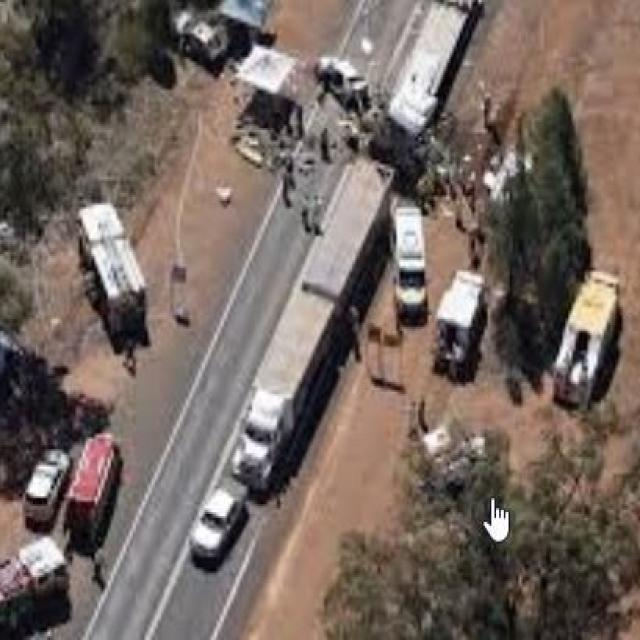traffic_incident: (228, 22, 501, 362)
